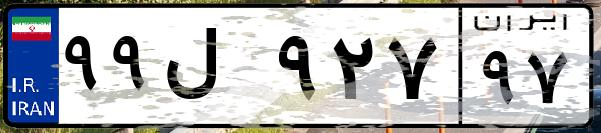2: (330, 28, 385, 110)
7: (385, 28, 445, 110), (525, 38, 570, 115)
9: (270, 28, 330, 110), (57, 26, 110, 100), (475, 38, 525, 113), (110, 28, 158, 98)
ل: (158, 20, 270, 120)
